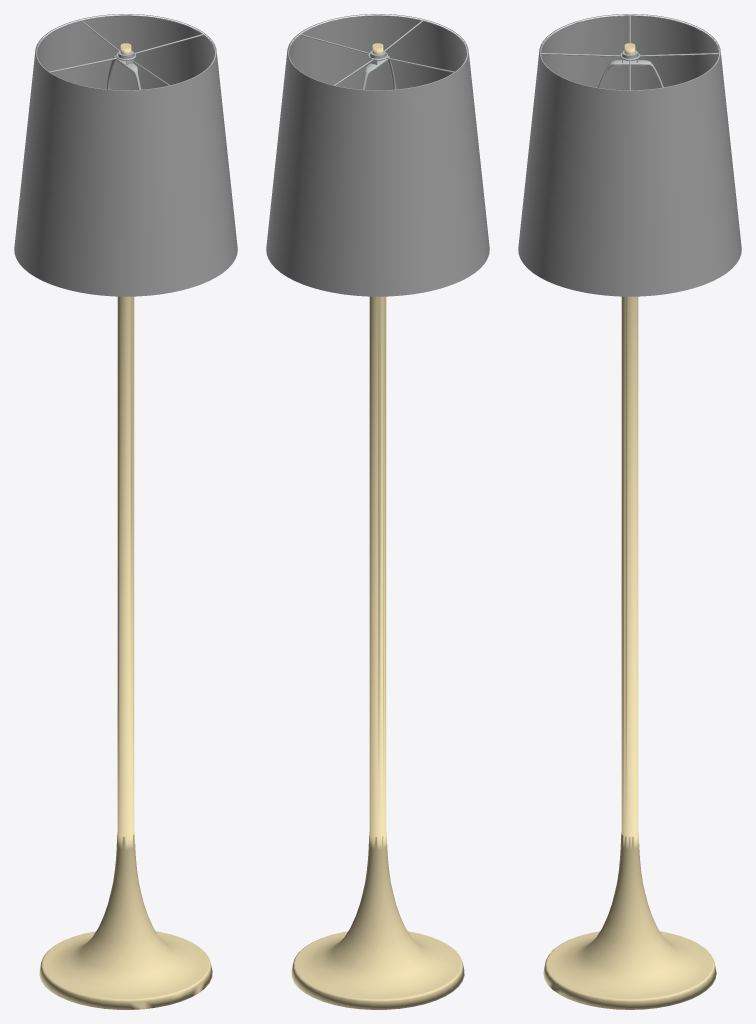
File: B07HKF28GD.glb
3 renders of one model, left to right at view 1: azimuth 30°, elevation 25°; view 2: azimuth 150°, elevation 25°; view 3: azimuth 270°, elevation 25°, orthographic.
Visible parts, largest first — view 1: RootNode; view 2: RootNode; view 3: RootNode.
Part boxes in pixels (<box>): RootNode: <box>14,14,237,1009</box>; RootNode: <box>266,14,489,1009</box>; RootNode: <box>518,14,741,1009</box>.
Size of the model in its own units: 0.3371 by 1.54 by 0.3371.
Materials: 1 (1 with a texture image).
